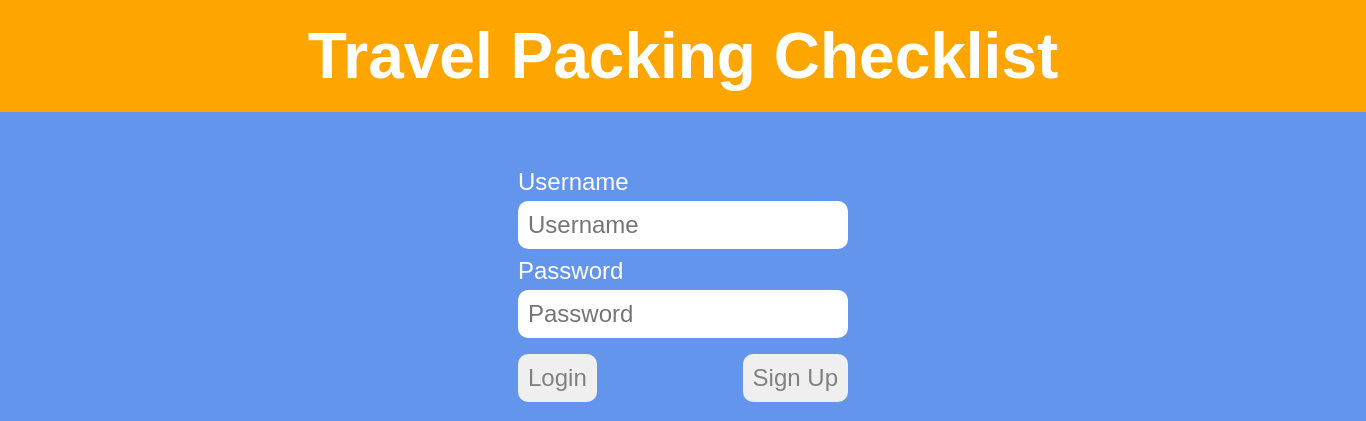
Scenario: Travel Packing app › should logout
The width and height of the screenshot is (1366, 421).
Type "username" into the field with placeholder "Username" at coordinates (683, 225), box [518, 201, 848, 249]
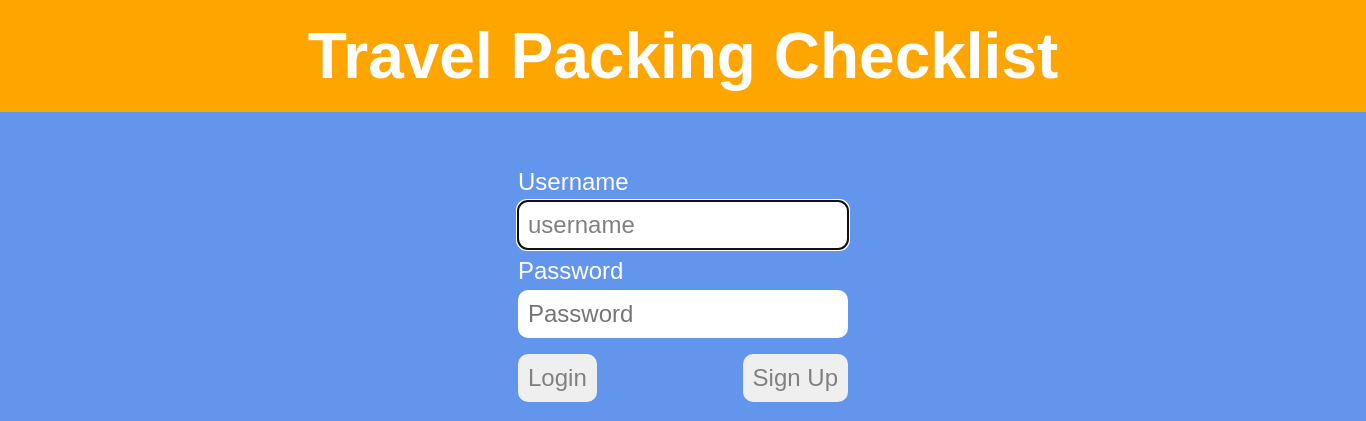
Type "password" into the password field with placeholder "Password" at coordinates (683, 314), box [518, 290, 848, 338]
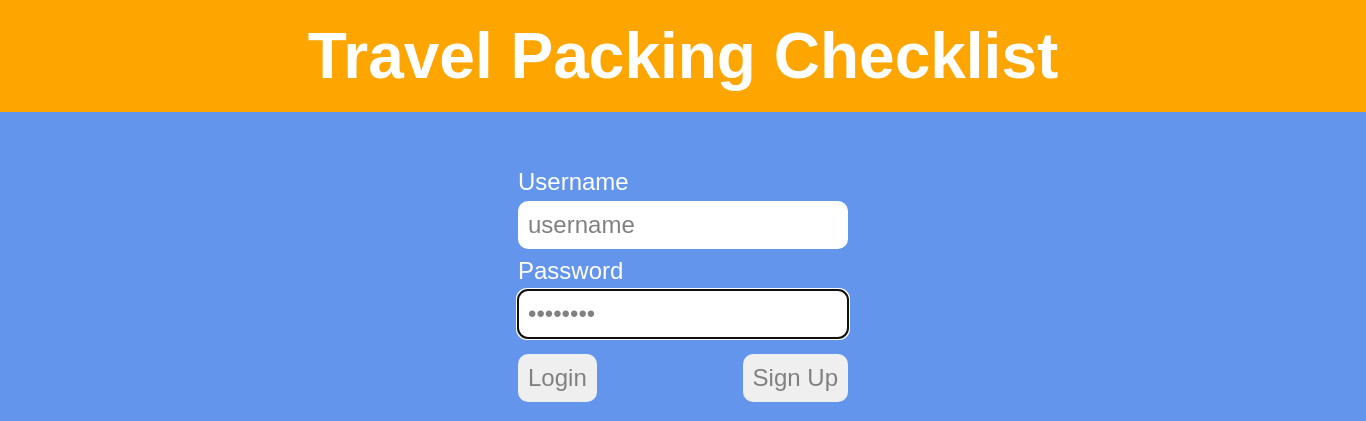
Click the button "Login" at coordinates (558, 378), box [518, 354, 597, 402]
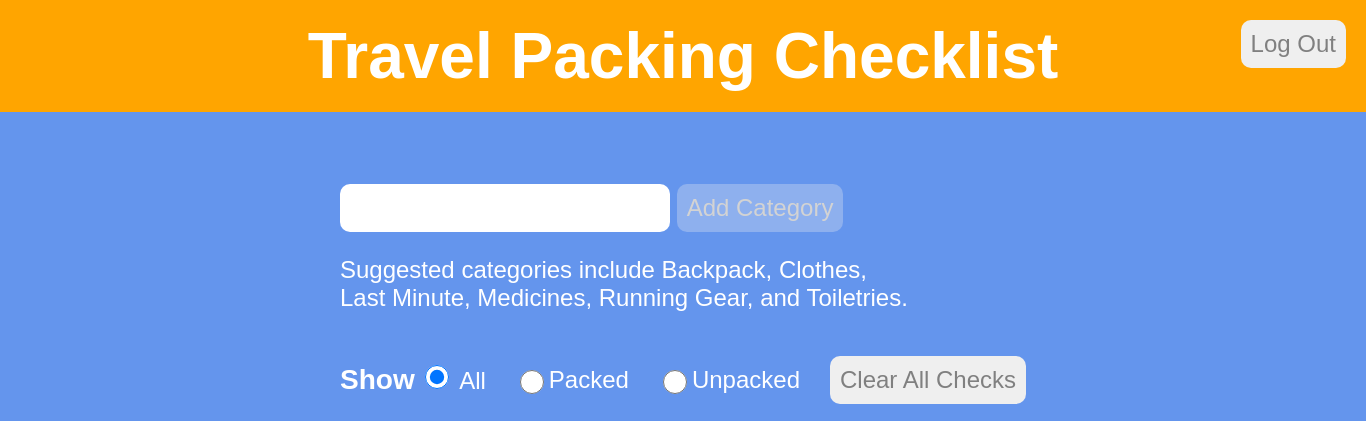
Click the button "Log Out" at coordinates (1294, 44), box [1241, 20, 1346, 68]
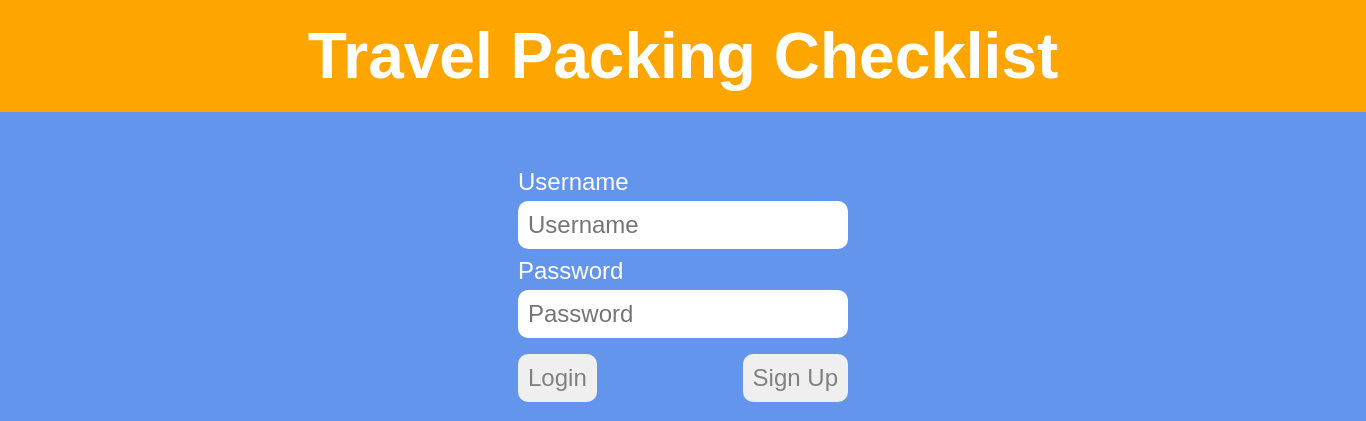
Check: the button "Login" is shown, box [518, 354, 597, 402]
